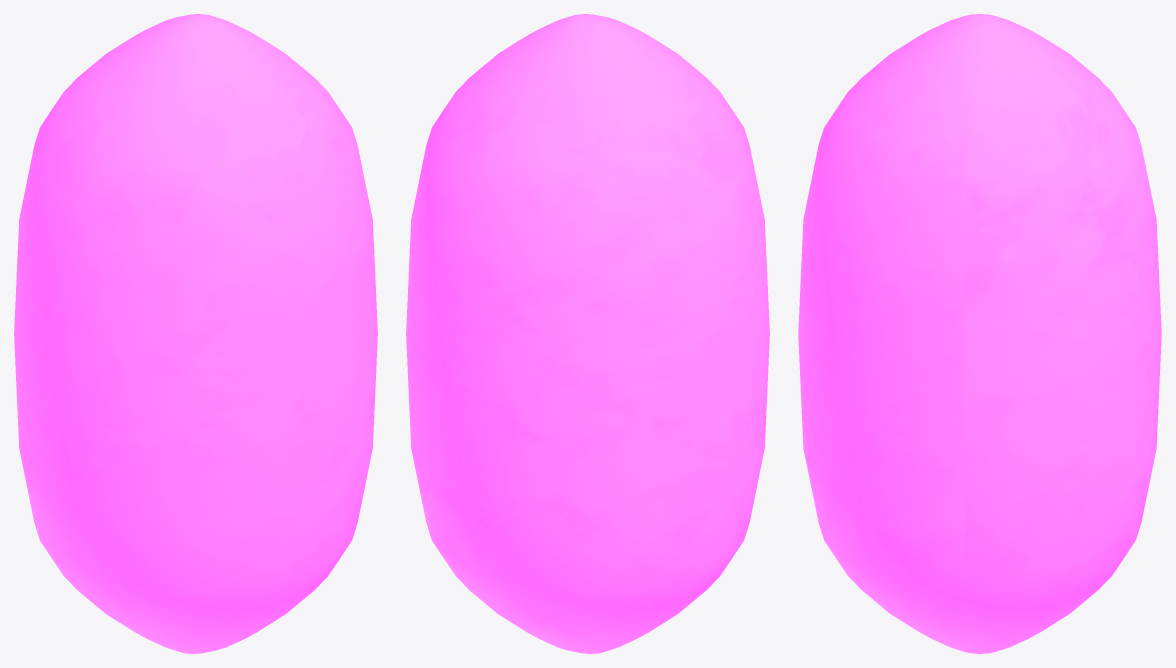
Rendered from PlayerBulletModel.fbx.
3 views of the same model, side by side, from view 1: azimuth 30°, elevation 25°; view 2: azimuth 150°, elevation 25°; view 3: azimuth 270°, elevation 25° (orthographic).
Visible parts, largest first — view 1: PlayerBullet; view 2: PlayerBullet; view 3: PlayerBullet.
Boxes of the visible parts, <box> form: PlayerBullet: <box>14,14,377,653</box>; PlayerBullet: <box>406,14,769,653</box>; PlayerBullet: <box>798,14,1161,653</box>.
Bounding box in the file's own units: 19.72 × 37.58 × 19.72.
